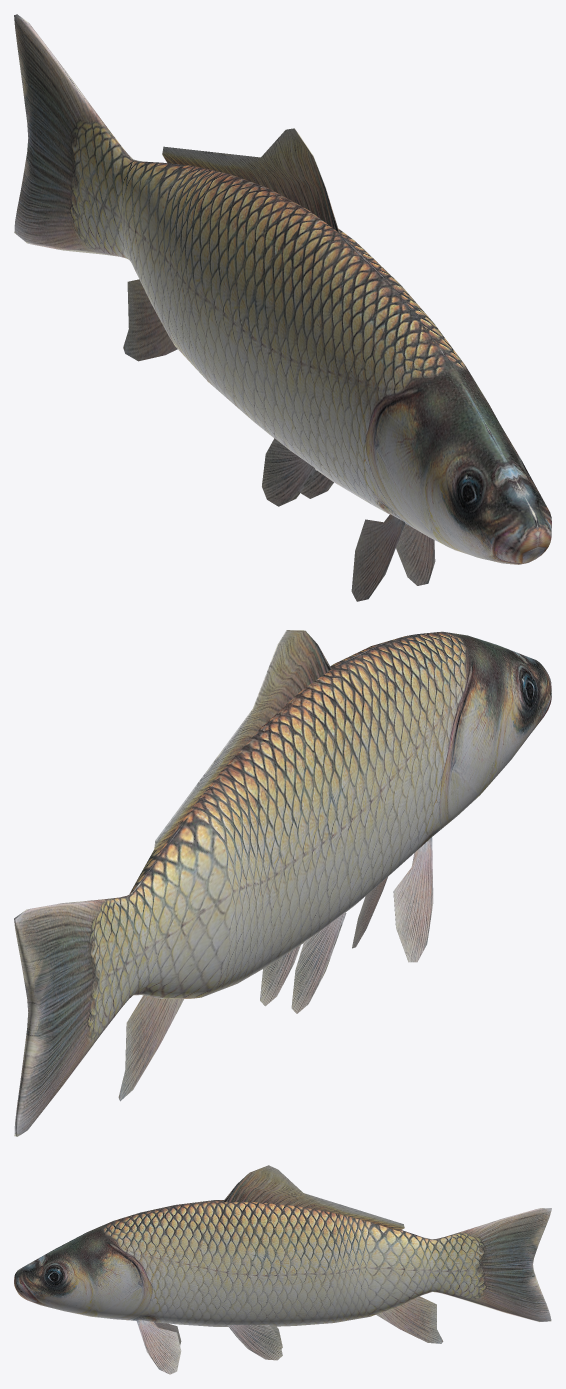
Rendered from Small Fish.fbx.
3 views of the same model, one above another, from view 1: azimuth 30°, elevation 25°; view 2: azimuth 150°, elevation 25°; view 3: azimuth 270°, elevation 25° (orthographic). The views are drawn at different scales.
Parts seen in each view (by area): view 1: polySurface20; view 2: polySurface20; view 3: polySurface20.
Boxes of the visible parts, x1,y1,x2,y2 form: polySurface20: [14, 14, 551, 601]; polySurface20: [14, 630, 551, 1136]; polySurface20: [14, 1165, 551, 1374].
Bounding box in the file's own units: 0.4605 × 2.16 × 5.2.
1 material, 1 textured.
